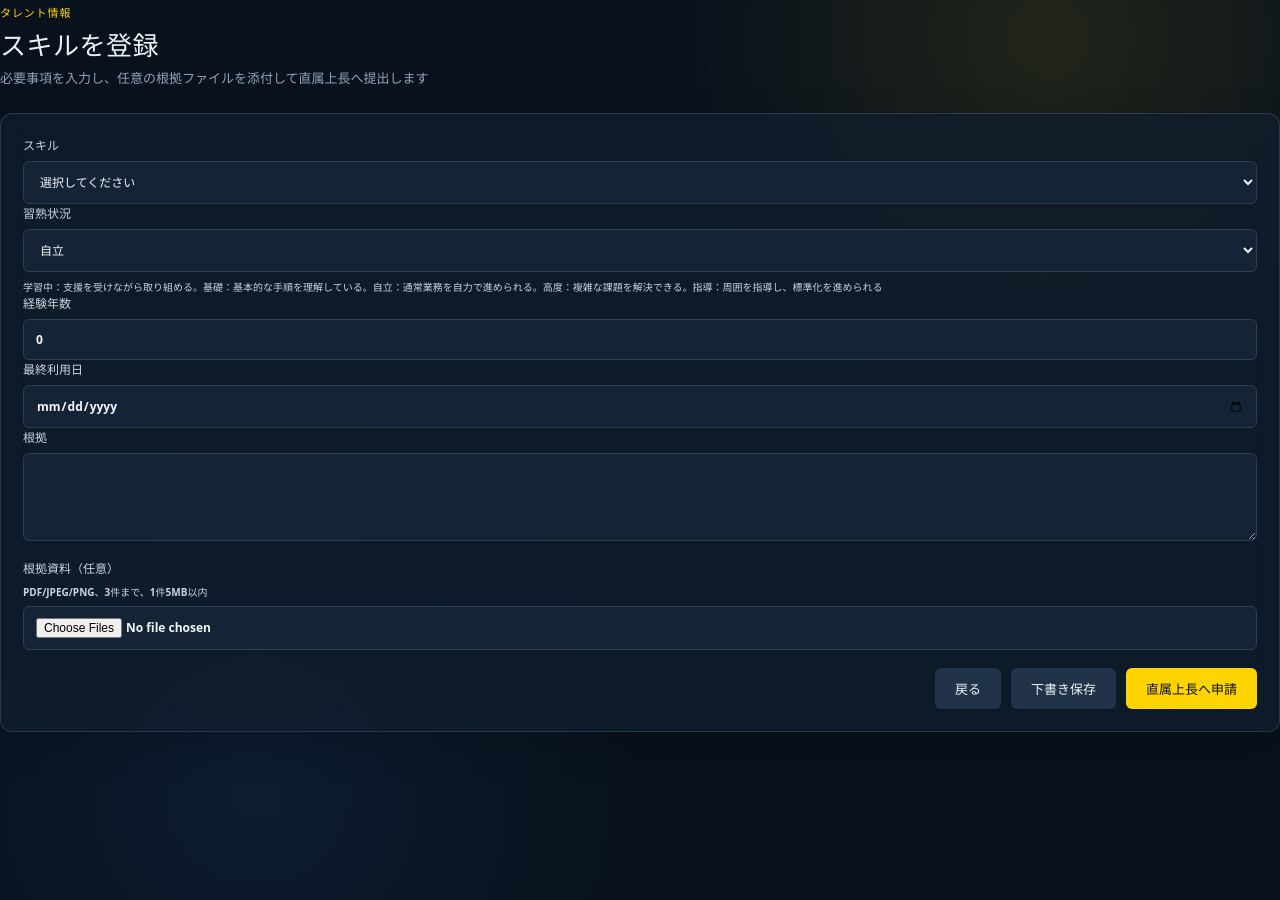
Test: TalentSubmissionFormPage › 自然な習熟状況を選ぶと既存API契約のlevelへ変換して保存する
Select "Java" in the dropdown labelled "スキル" at (640, 183), box [23,161,1257,204]
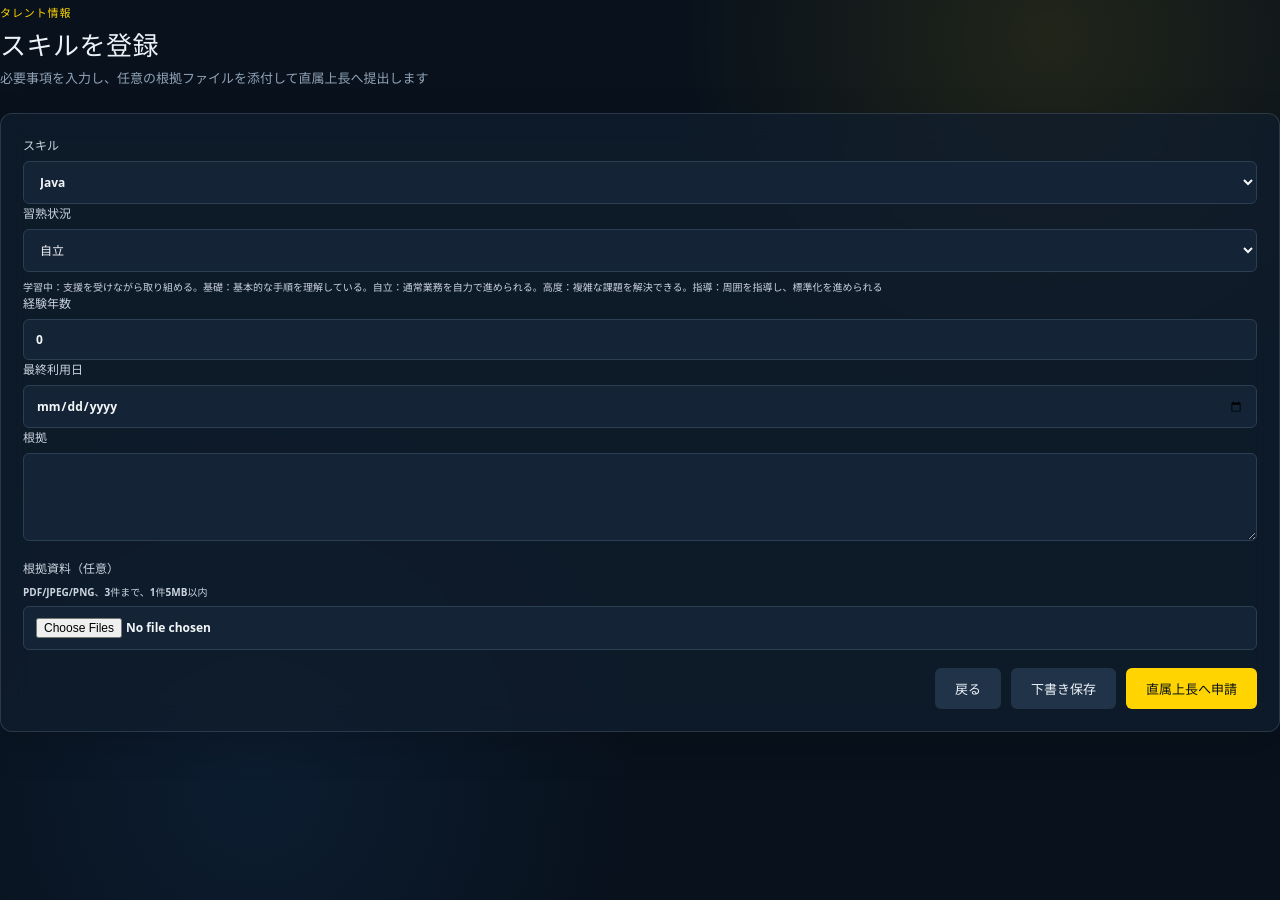
Select "高度" in the dropdown labelled "習熟状況" at (640, 251), box [23,229,1257,272]
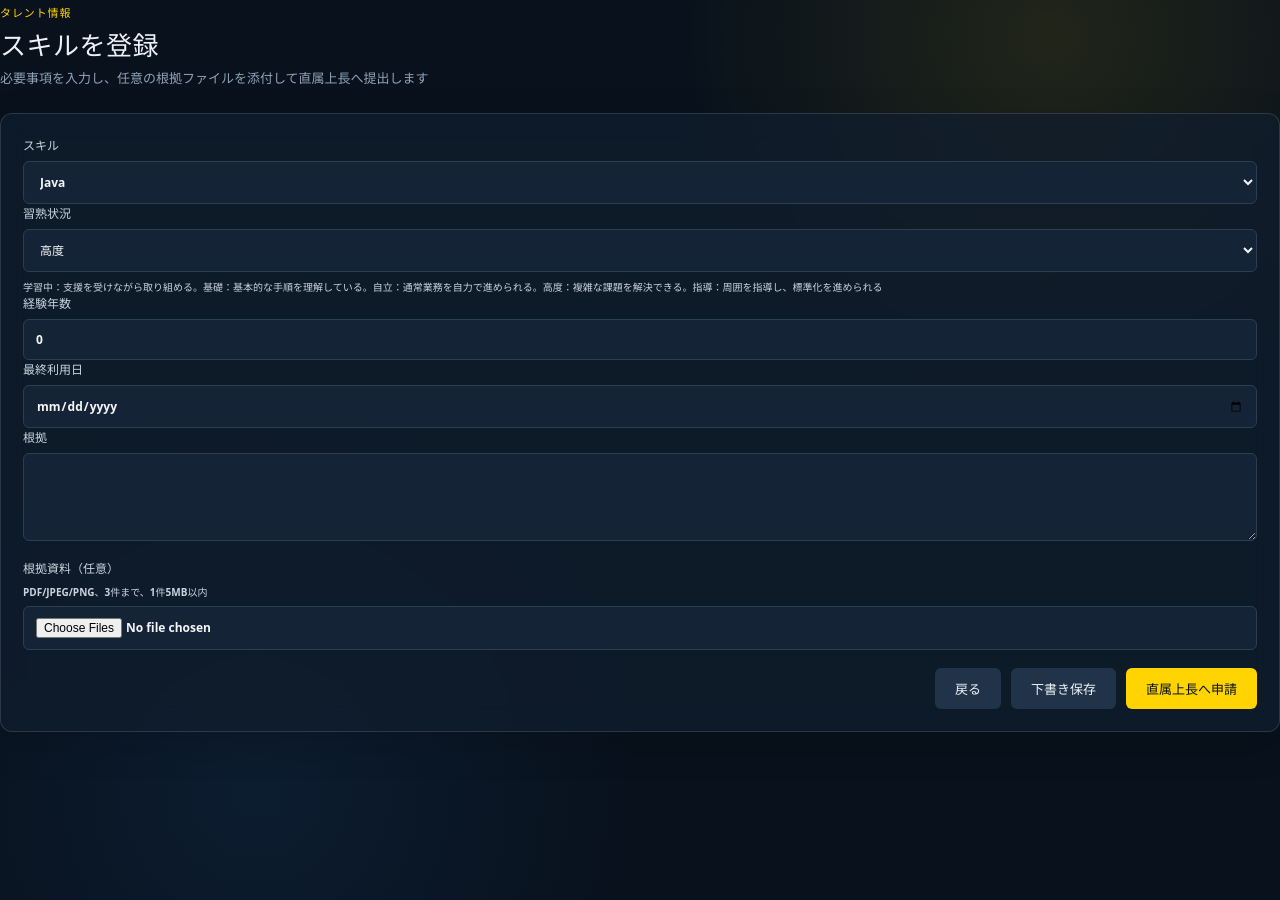
Replace the text in the number field labelled "経験年数" with "2.5" at (640, 340), box [23,319,1257,360]
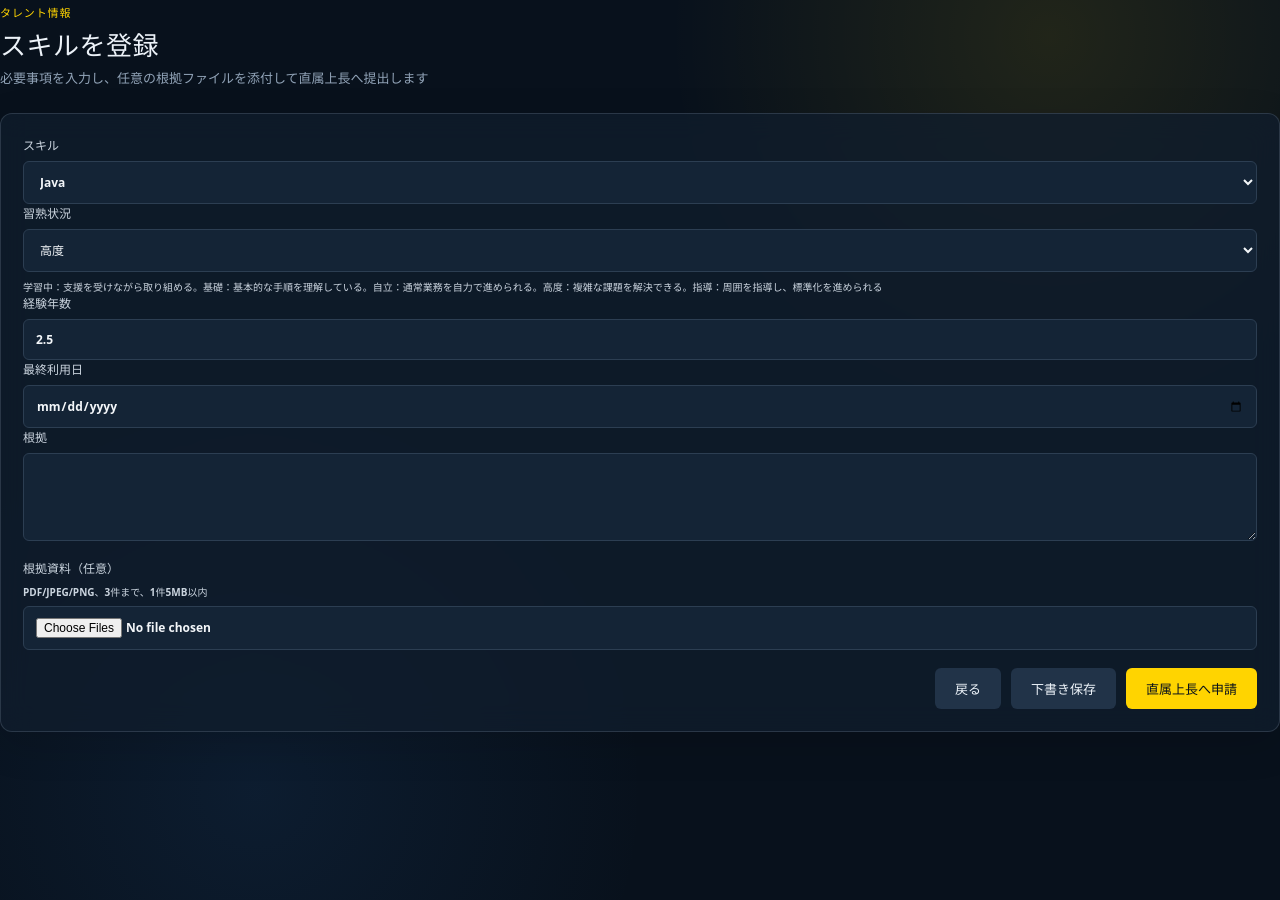
Type "2026-08-01" into the date field labelled "最終利用日" at (640, 407), box [23,385,1257,428]
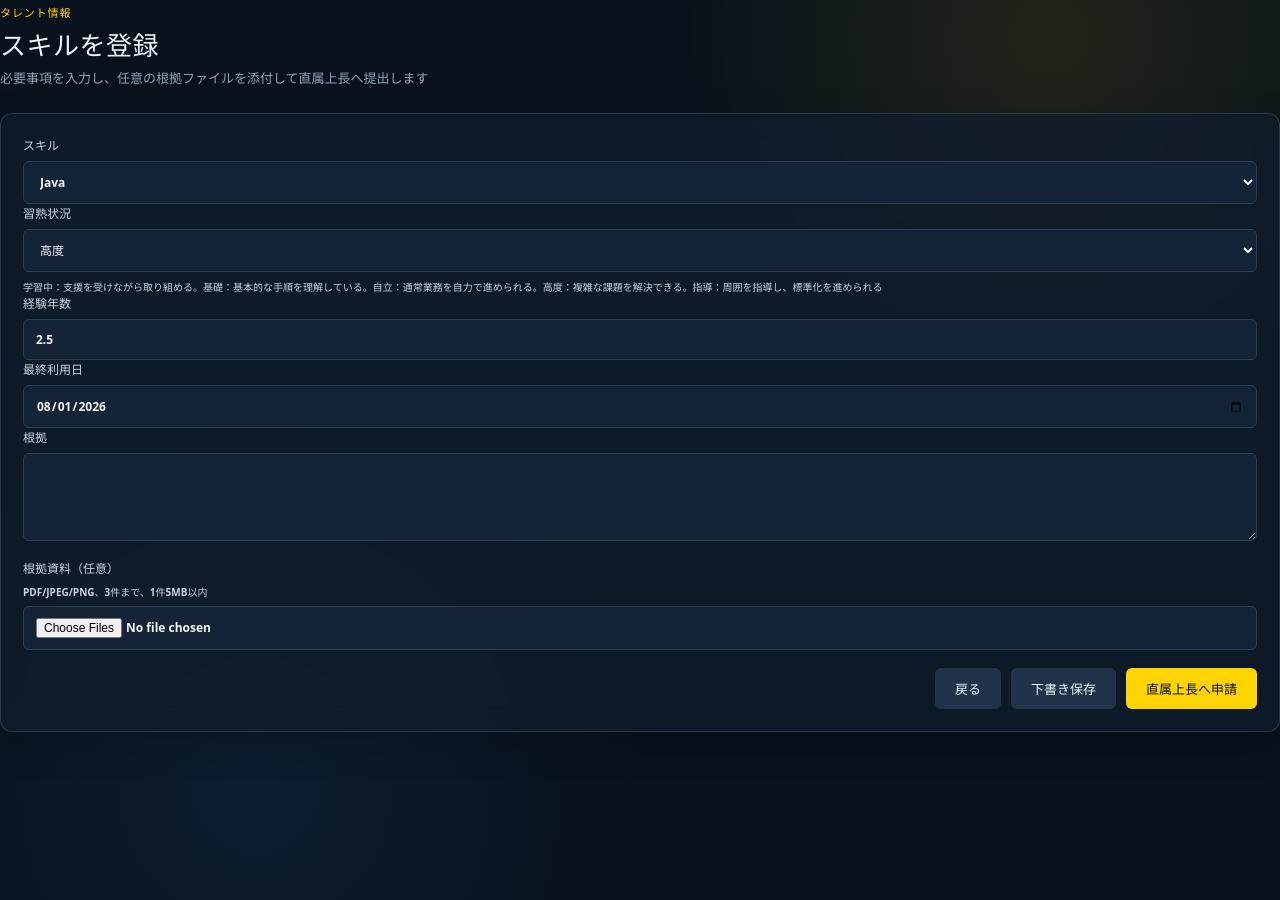
Type "複雑な案件を自力で解決した" into the text box labelled "根拠" at (640, 497), box [23,453,1257,541]
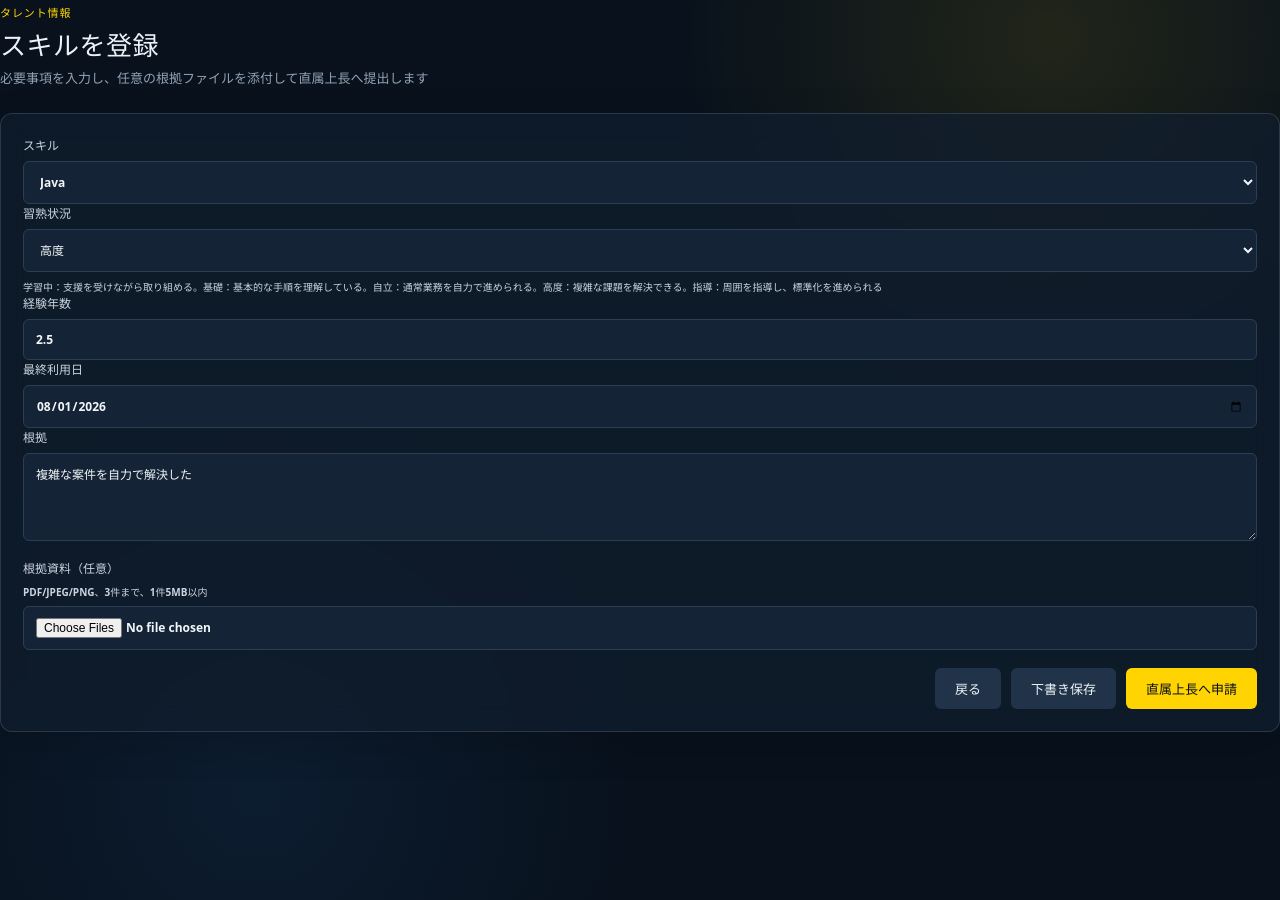
Click the button "下書き保存" at (1064, 689), box [1011,668,1116,709]
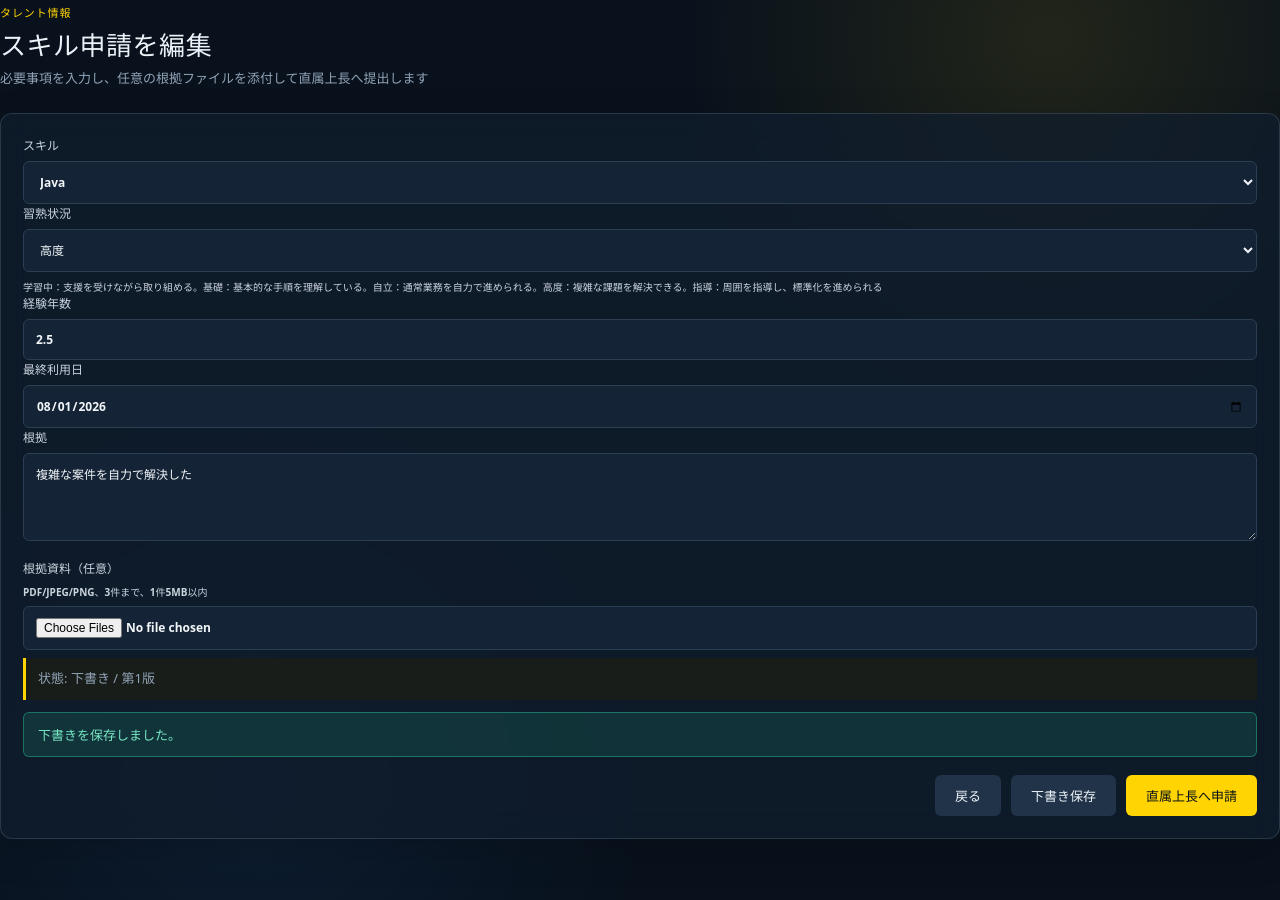
Expected: the message shows "下書きを保存しました", [38,726,181,744]
